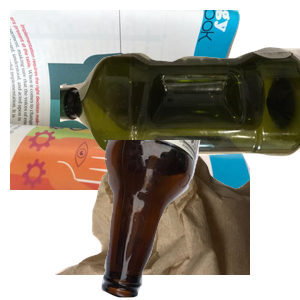glass: (99, 140, 300, 300)
paper: (10, 10, 250, 190)
plastic: (60, 44, 300, 195)
trash: (52, 120, 292, 300)
